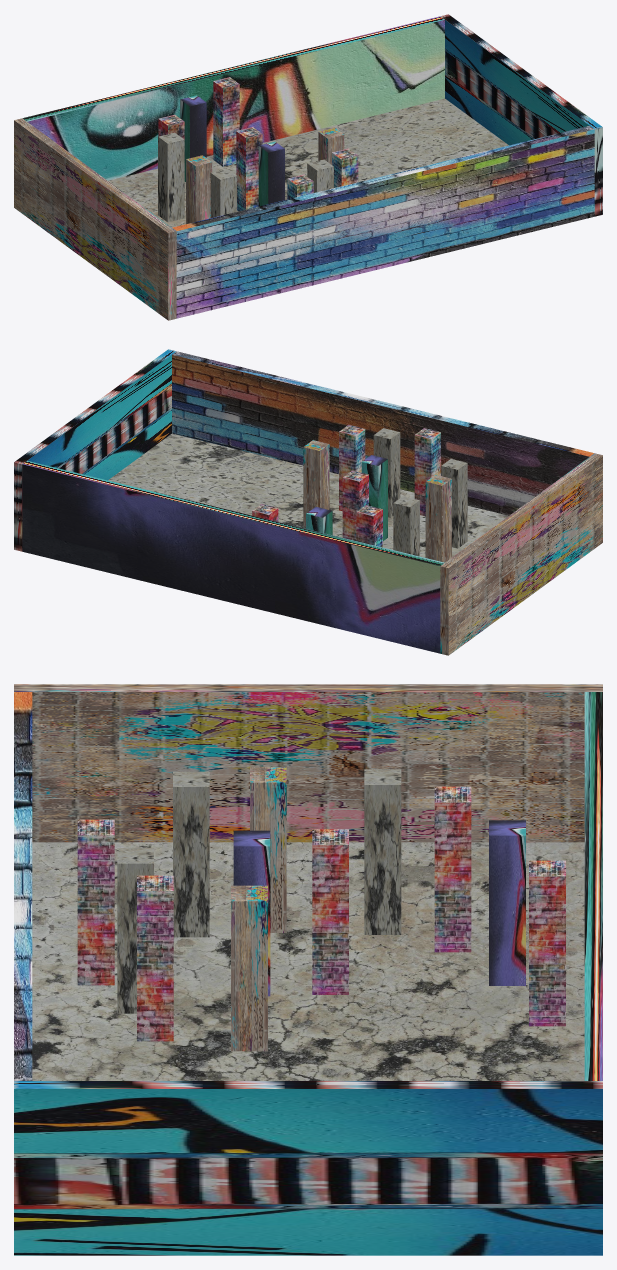
Rendered from arena_v7.dae.
3 views of the same model, one above another, from view 1: azimuth 30°, elevation 25°; view 2: azimuth 150°, elevation 25°; view 3: azimuth 270°, elevation 25° (orthographic). The views are drawn at different scales.
Parts seen in each view (by area): view 1: Wall2, Wall1, Wall4, Floor, Wall3, Cube.020, Cube.007, Cube.019, Cube.011, Cube.018, Cube.009, Cube.001 (+5 smaller); view 2: Wall1, Wall2, Wall4, Floor, Wall3, Cube.011, Cube.017, Cube.002, Cube.001, Cube.020, Cube.019, Cube.012 (+4 smaller); view 3: Wall3, Floor, Wall4, Wall2, Wall1, Cube.002, Cube.021, Cube.020, Cube.017, Cube.016, Cube.007, Cube.001 (+5 smaller).
Boxes of the visible parts, box(x1,y1,x2,y2) form: Wall2: box(172, 126, 594, 318); Wall1: box(22, 16, 444, 180); Wall4: box(14, 118, 176, 320); Floor: box(108, 98, 508, 227); Wall3: box(440, 14, 602, 216); Cube.020: box(158, 132, 184, 222); Cube.007: box(213, 77, 239, 166); Cube.019: box(236, 127, 262, 211); Cube.011: box(186, 155, 212, 224); Cube.018: box(258, 141, 284, 206); Cube.009: box(180, 95, 206, 181); Cube.001: box(210, 169, 236, 217); Wall1: box(22, 461, 444, 653); Wall2: box(172, 351, 594, 515); Wall4: box(440, 453, 602, 655); Floor: box(108, 433, 508, 557); Wall3: box(14, 349, 176, 551); Cube.011: box(425, 475, 451, 562); Cube.017: box(303, 440, 329, 526); Cube.002: box(414, 428, 440, 516); Cube.001: box(441, 459, 467, 548); Cube.020: box(393, 496, 419, 556); Cube.019: box(342, 470, 368, 540); Cube.012: box(373, 428, 400, 517); Wall3: box(14, 1081, 602, 1255); Floor: box(32, 842, 584, 1080); Wall4: box(14, 684, 602, 842); Wall2: box(14, 692, 32, 1080); Wall1: box(584, 692, 602, 1080); Cube.002: box(77, 819, 114, 985); Cube.021: box(434, 786, 471, 952); Cube.020: box(364, 769, 401, 934); Cube.017: box(231, 885, 267, 1051); Cube.016: box(137, 875, 173, 1041); Cube.007: box(529, 860, 565, 1026); Cube.001: box(173, 771, 209, 937).
Bounding box in the file's own units: 26 × 16 × 5.
Materials: 7 (7 with a texture image).
